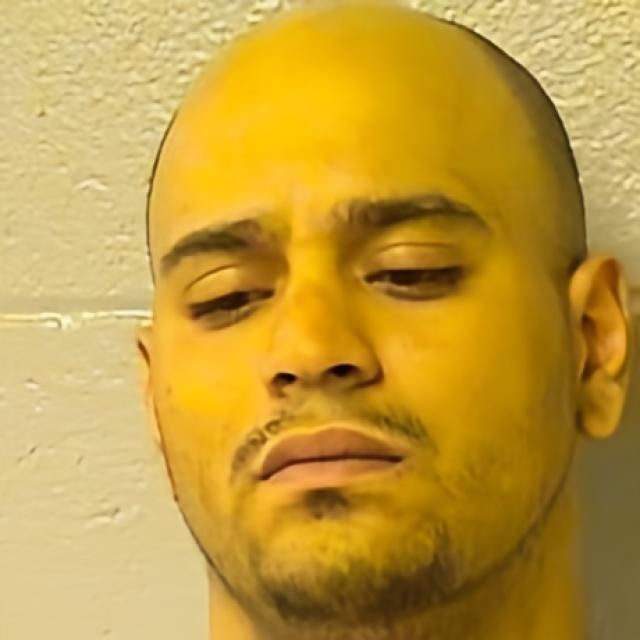sad: (146, 0, 569, 626)
